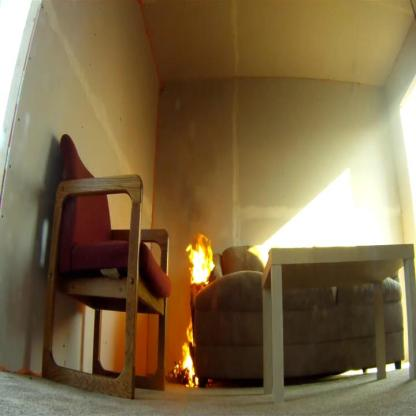fire: (172, 233, 216, 392)
